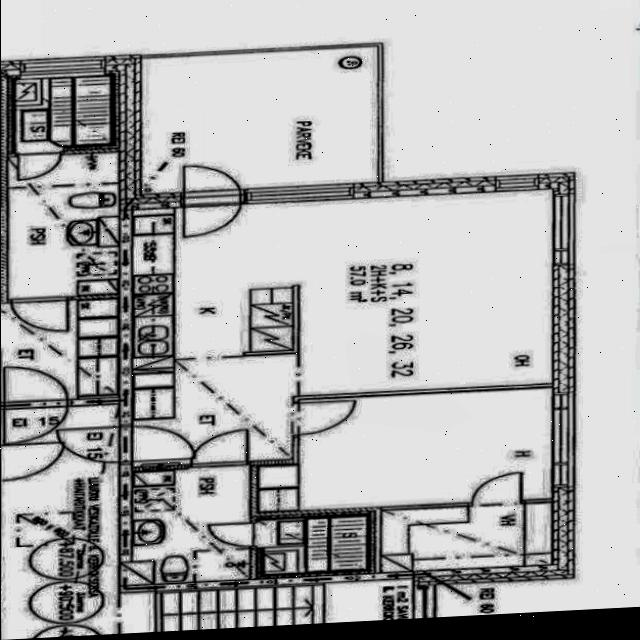room: (121, 189, 563, 467), (294, 389, 555, 510), (7, 152, 117, 300), (127, 465, 255, 585), (377, 502, 554, 573), (11, 71, 113, 148), (259, 514, 370, 576)
